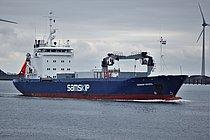Ship: (11, 7, 192, 107)
